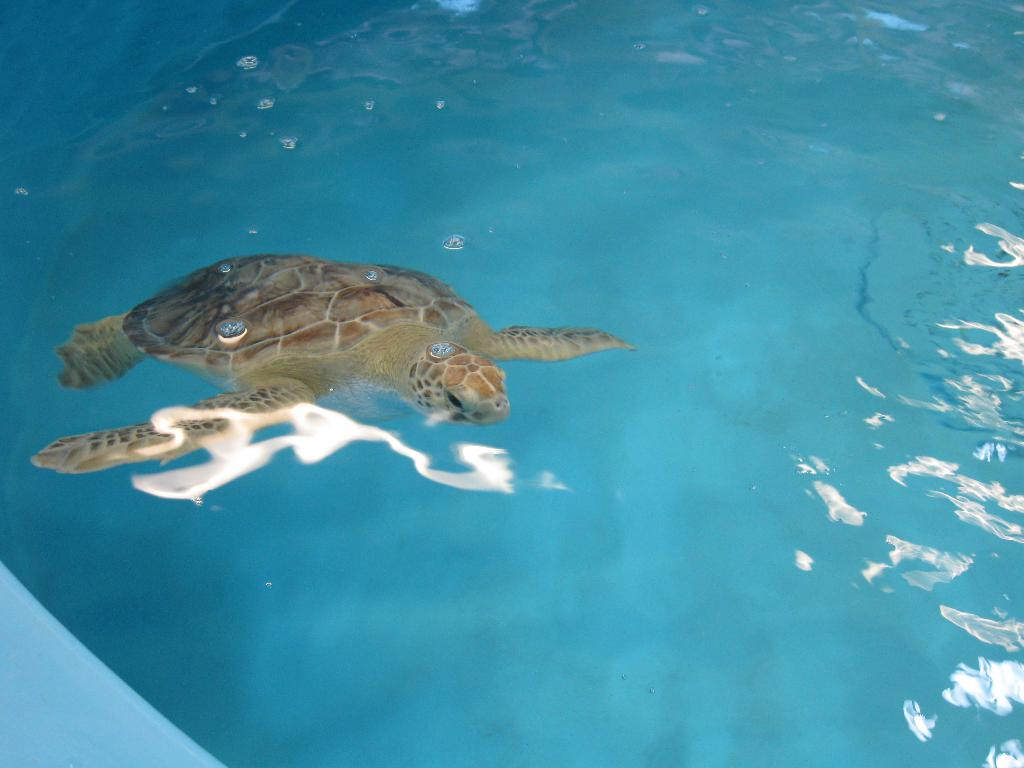Sea turtles: (27, 249, 645, 477)
